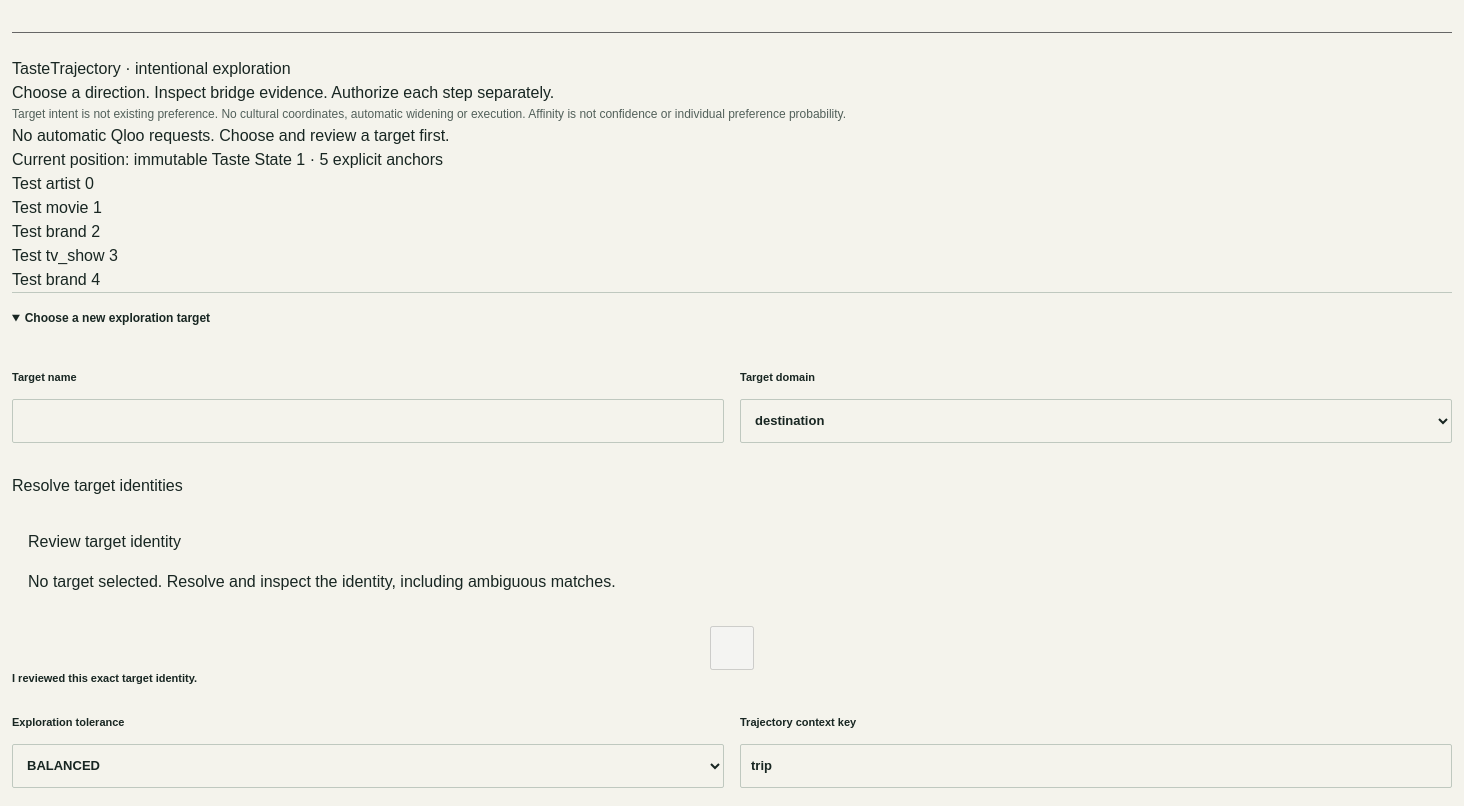
Test: provider-independent unavailable state is intentional and exposes no raw exception
This screenshot has width=1464, height=806.
Type "SYNTHETIC TEST DATA target" into the field labelled "Target name" at (368, 421), box [12, 399, 724, 443]
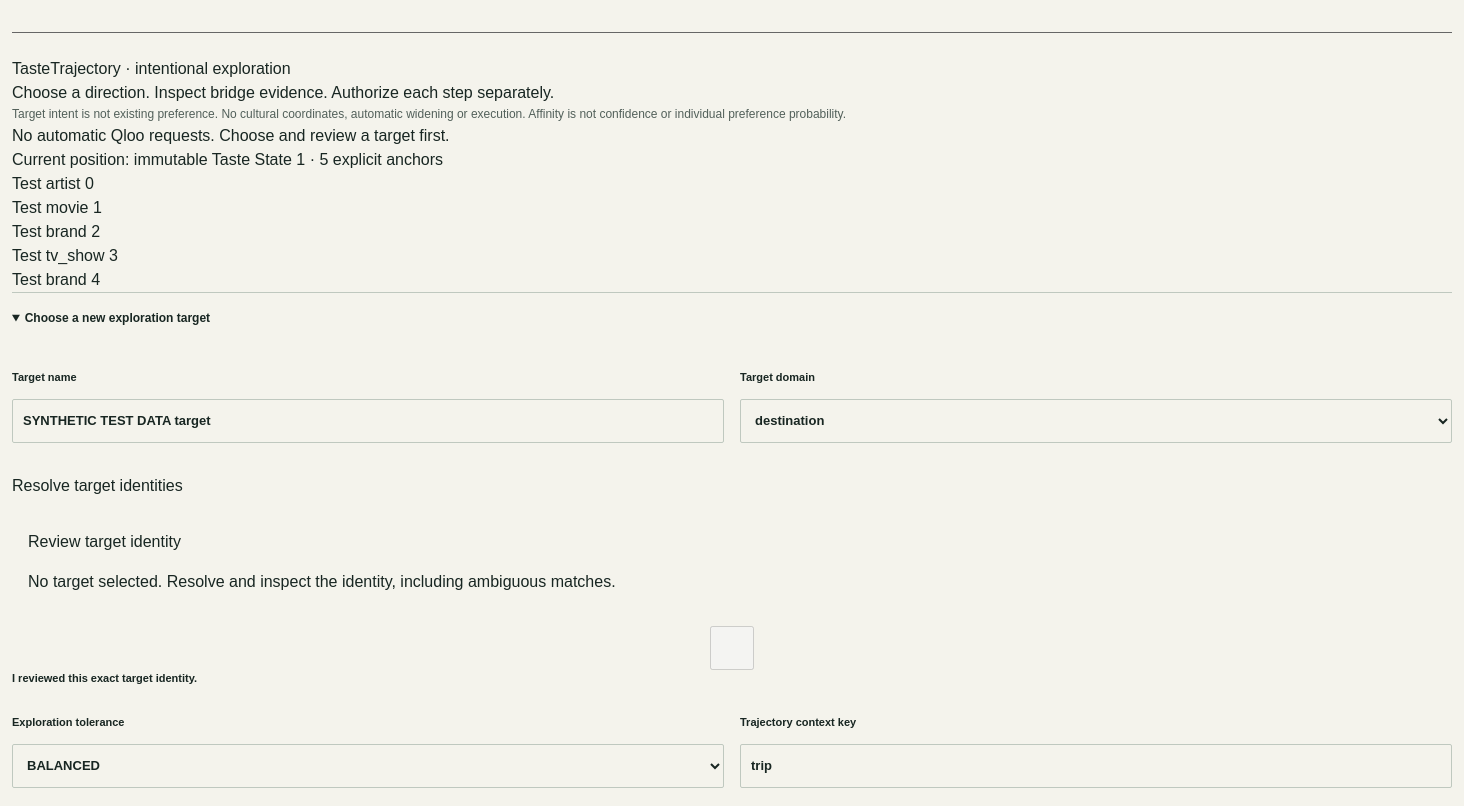
Click the button "Resolve target identities" at (97, 486), box [12, 464, 183, 508]
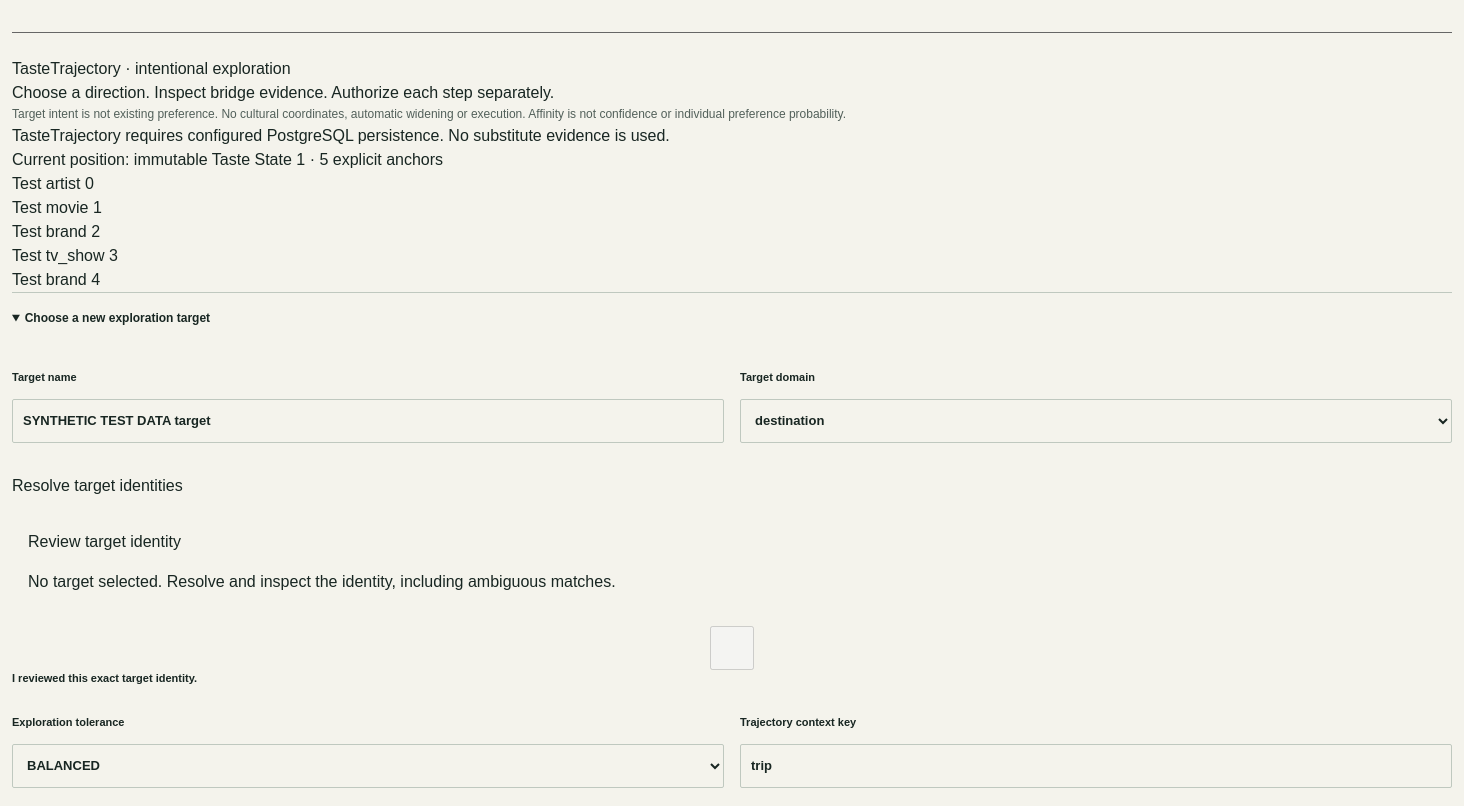
Result: the message named "Trajectory operation" shows "requires configured PostgreSQL" at [12, 127, 670, 144]
